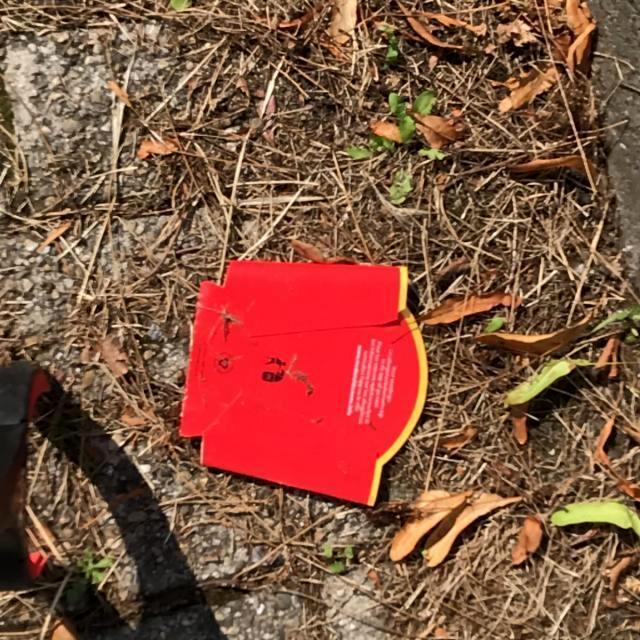Paper: (176, 258, 430, 508)
